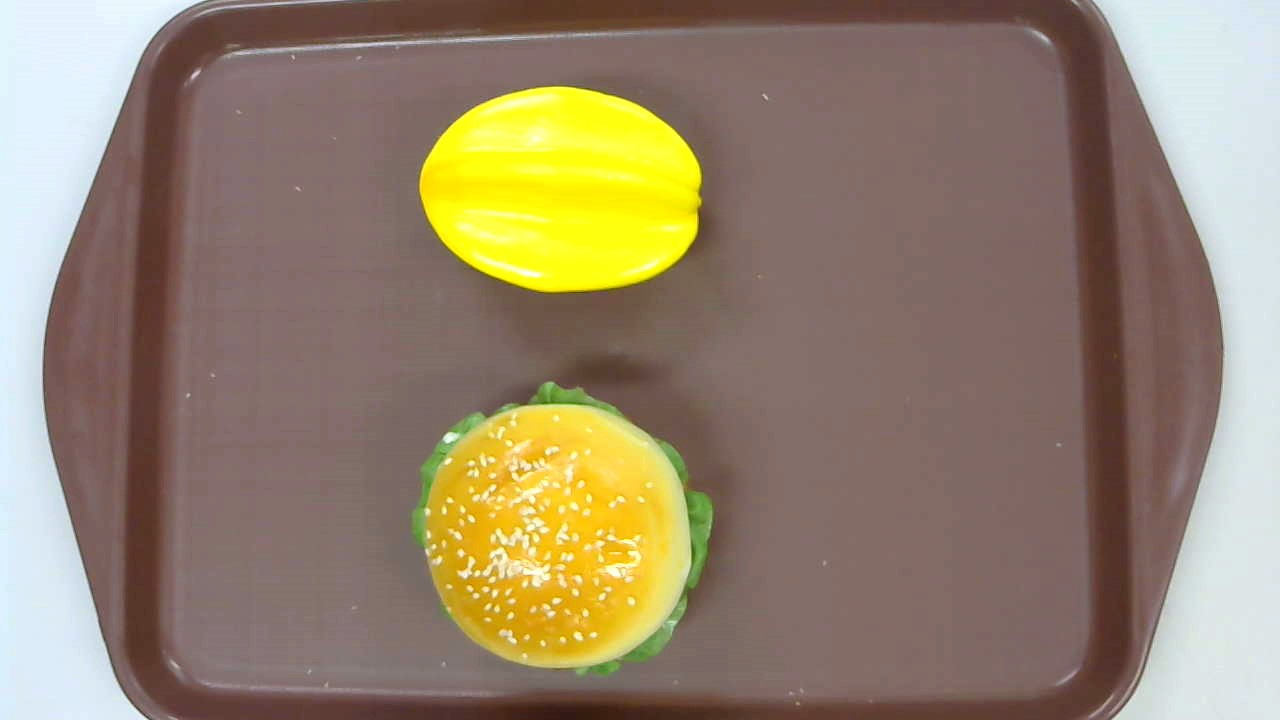hamburger: (410, 380, 714, 677)
star fruit: (420, 86, 703, 293)
